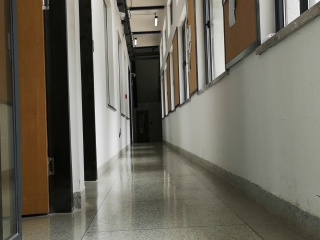room: (1, 3, 76, 239)
